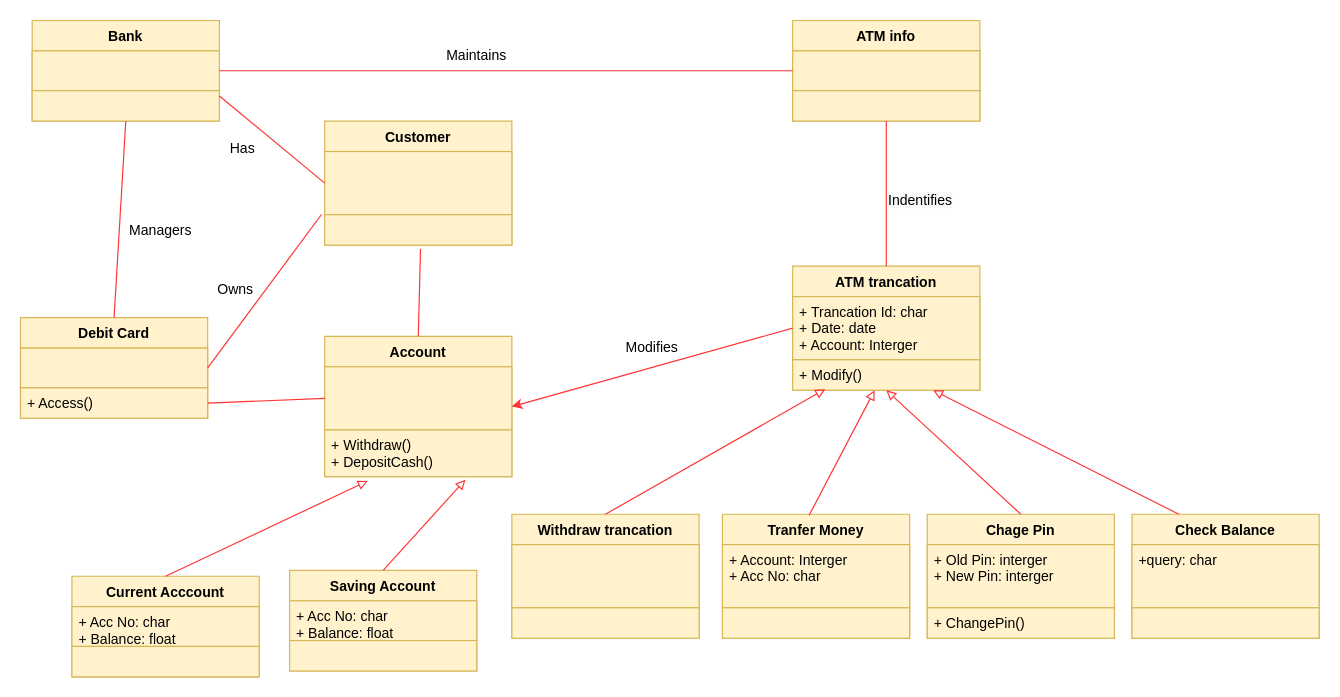
Image size: 1340x697. Some labels were removed from this diagram. Here are the shapes that lost their labels. From the top down, the centre of each, then its label:
(x=125, y=70): + BankId: char + Location: char
(x=886, y=70): + Location: char
(x=125, y=105): + Manages()
(x=886, y=105): + Trancation()
(x=418, y=182): + Id: char + Name: char + Address:char
(x=113, y=367): + Card No: char + Owend By: char
(x=418, y=398): + Type: char + Owend By: char + Brandlocation: char
(x=605, y=575): + Account: Interger
(x=605, y=622): + withdrawMoney()
(x=815, y=622): + tranderAccount()
(x=1225, y=622): +queryProcessing()
